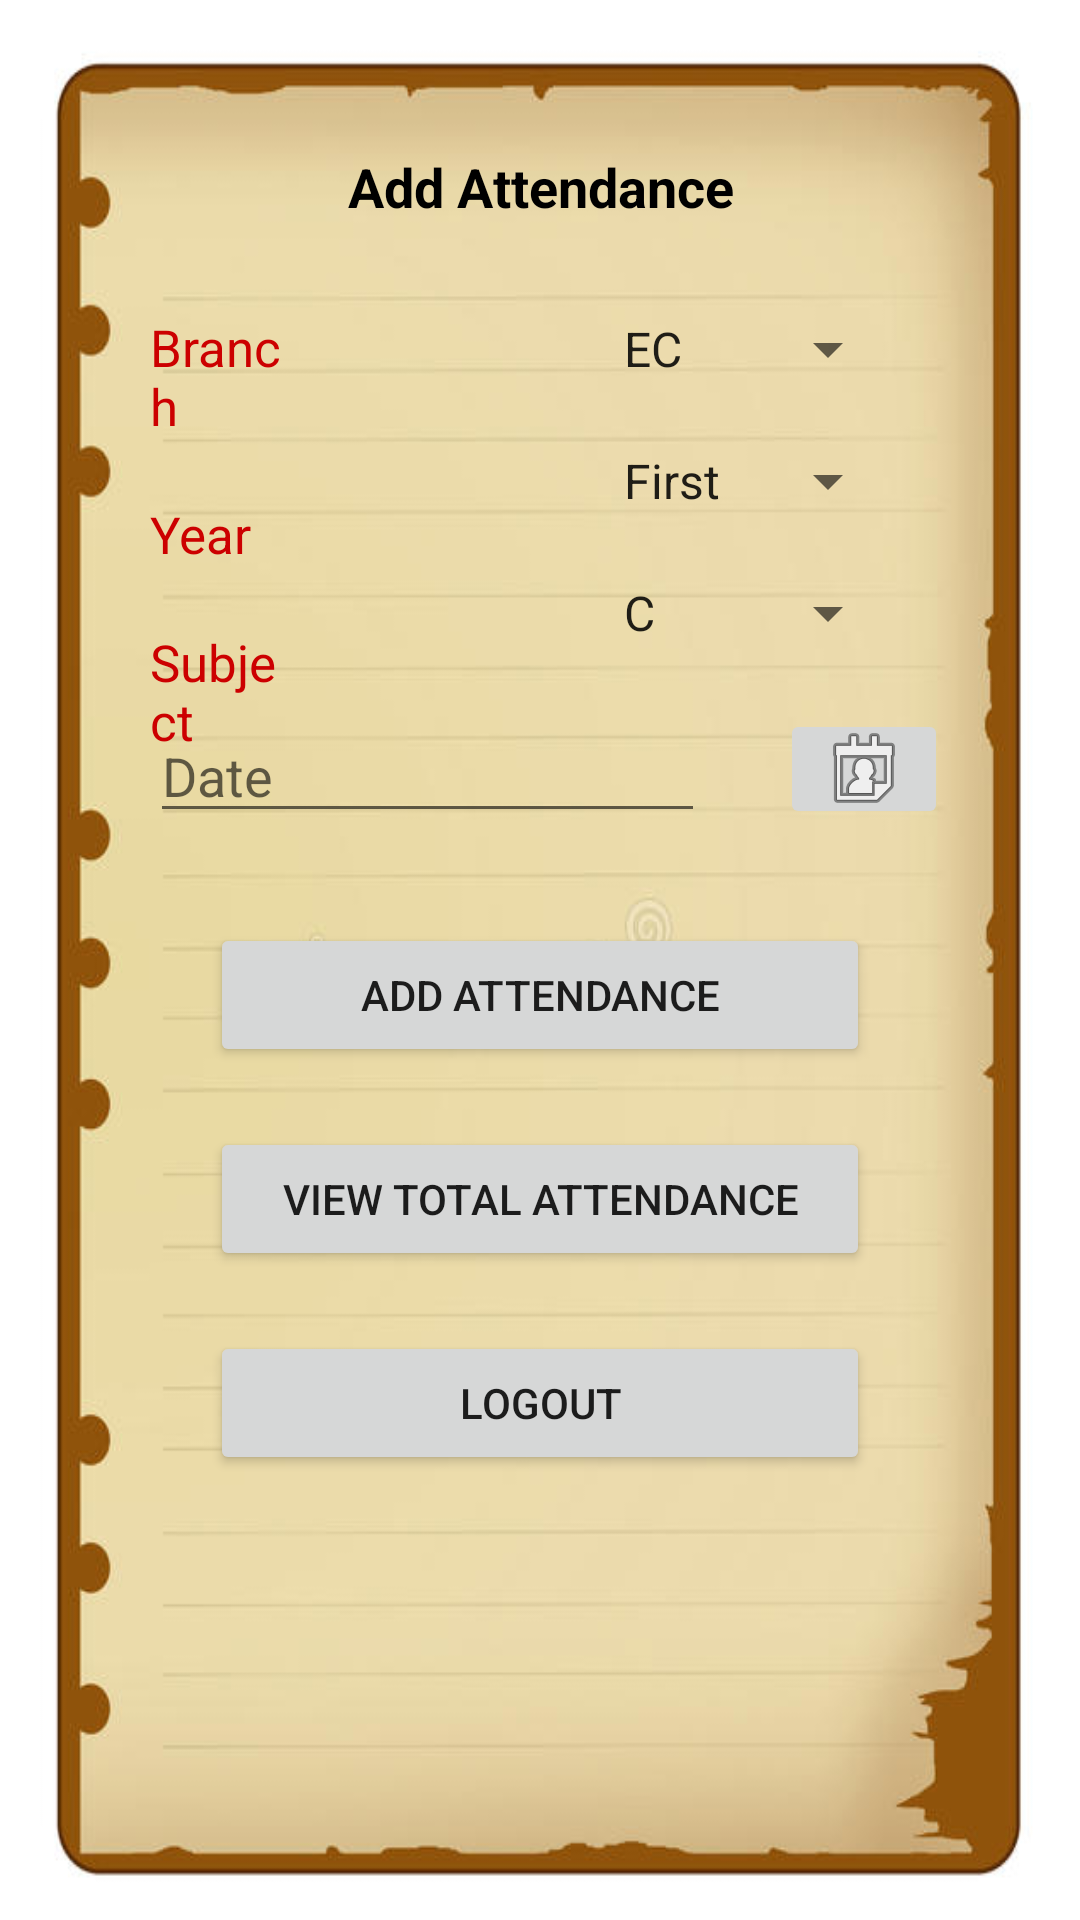

Icons on this 1080px×1920px Android screen, each with its box as (x1, y1, x2, y2):
calendar: (792, 727, 936, 811)
